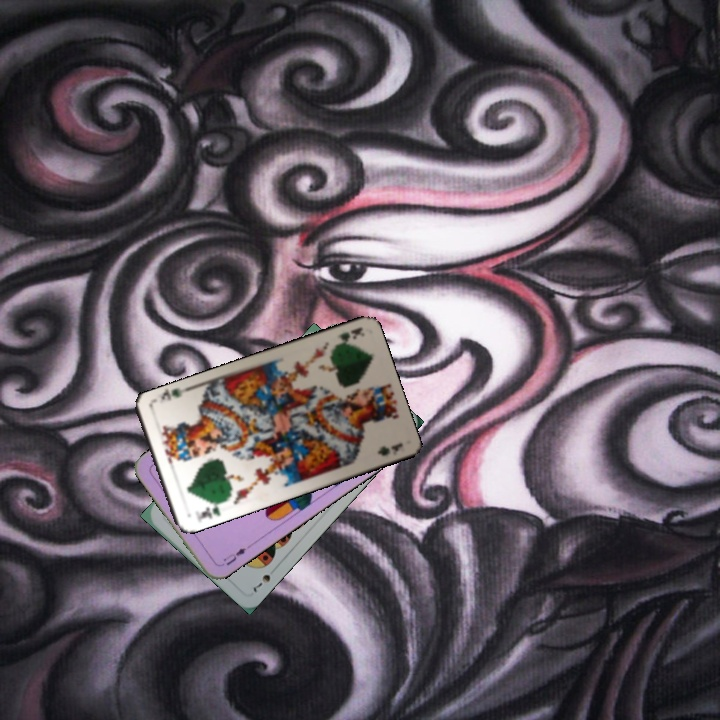EU: (217, 541, 253, 569)
GK: (328, 323, 366, 351), (191, 498, 225, 525)
S7: (249, 570, 273, 595)
